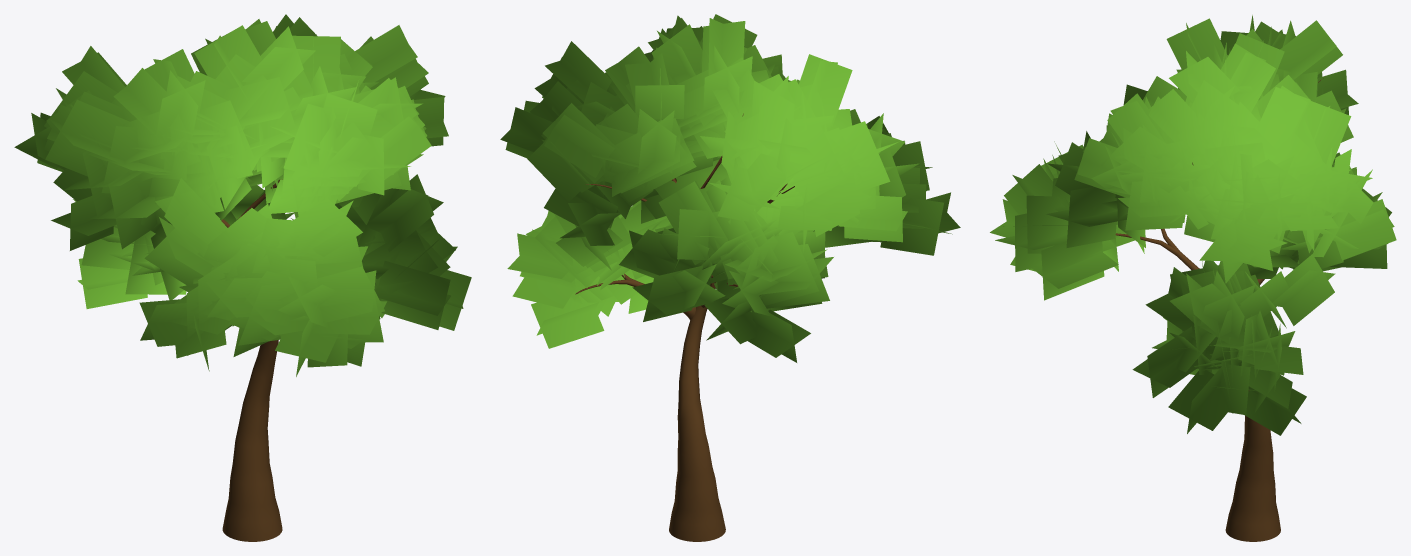
File: SM_tree_bent.fbx
The picture shows the model from 3 angles, left to right: view 1: azimuth 30°, elevation 25°; view 2: azimuth 150°, elevation 25°; view 3: azimuth 270°, elevation 25°; orthographic projection. The views are drawn at different scales.
Parts seen in each view (by area): view 1: treeee; view 2: treeee; view 3: treeee.
Part boxes in pixels (x1,y1,x2,y2): treeee: (14, 14, 471, 541); treeee: (500, 14, 960, 541); treeee: (990, 15, 1396, 541).
Size of the model in its own units: 234 by 293 by 226.
